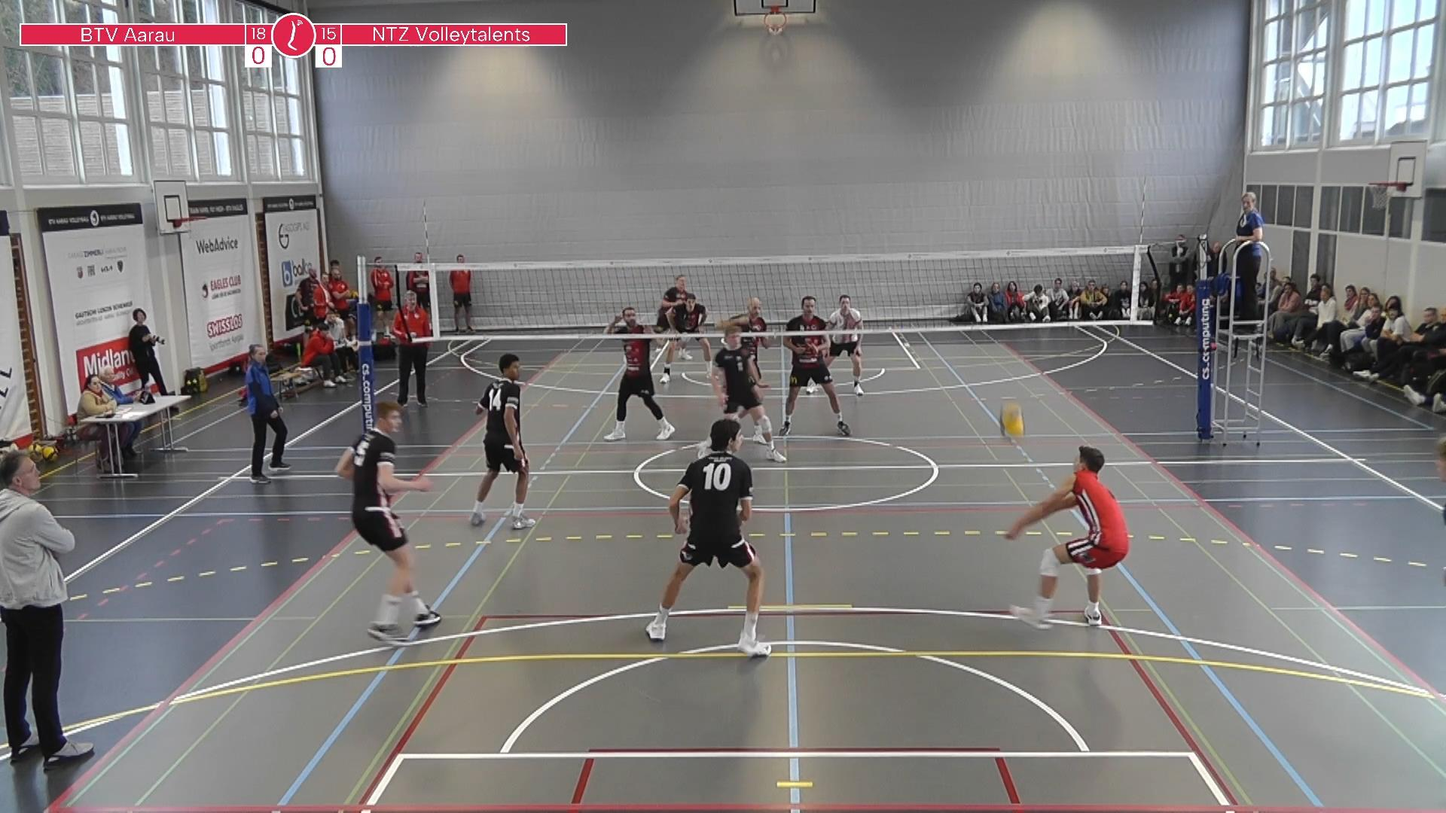Player: (646, 418, 770, 656), (334, 401, 441, 645), (1005, 446, 1128, 628), (471, 353, 535, 529), (710, 325, 786, 462), (781, 296, 850, 436), (605, 307, 675, 440), (717, 297, 770, 388), (654, 276, 691, 383), (827, 296, 863, 395), (675, 293, 712, 363)
Receive: (997, 446, 1137, 630)
ball: (997, 399, 1023, 443)
